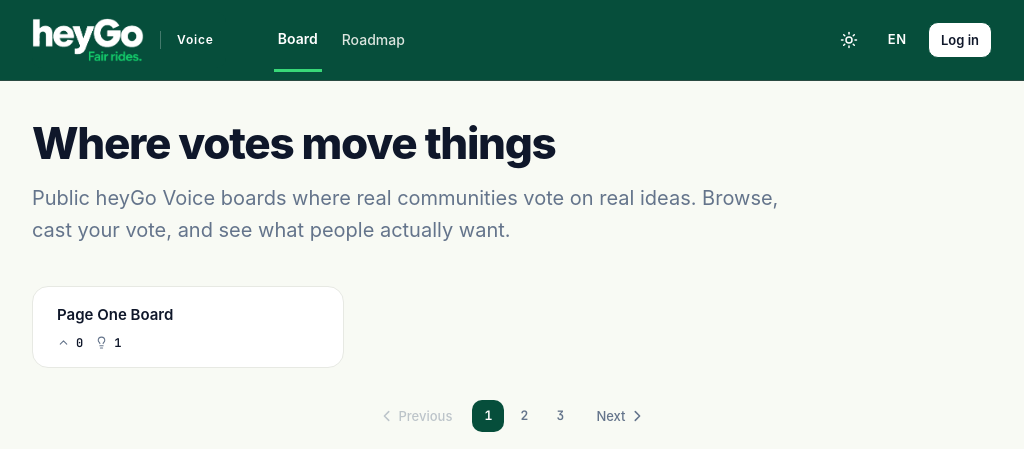
Test case: DiscoverPage — pagination › requests the next page and renders its boards on click
The width and height of the screenshot is (1024, 449).
expect the text "Page One Board" is shown: met, box [57,305,173,324]
Click the button "2". click: (524, 416)
box: [508,400,540,432]
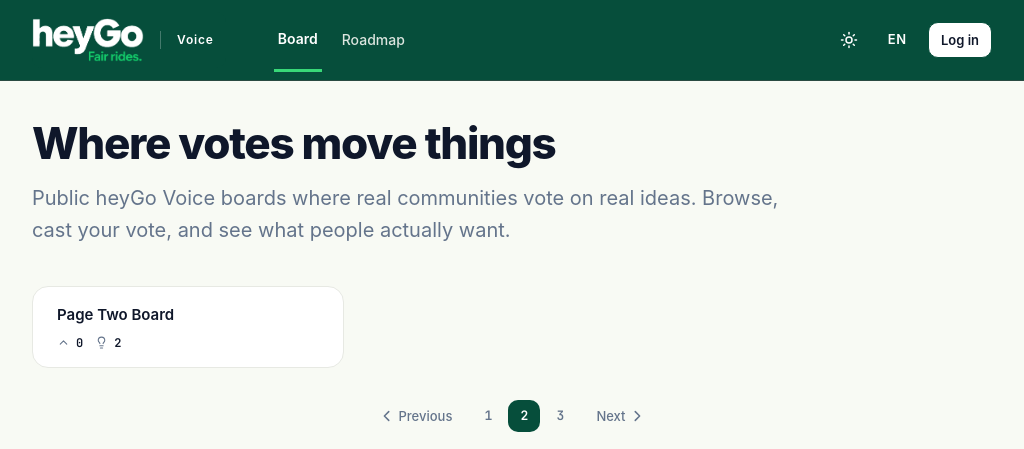
expect the text "Page Two Board" is shown: met, box [57,305,174,324]
